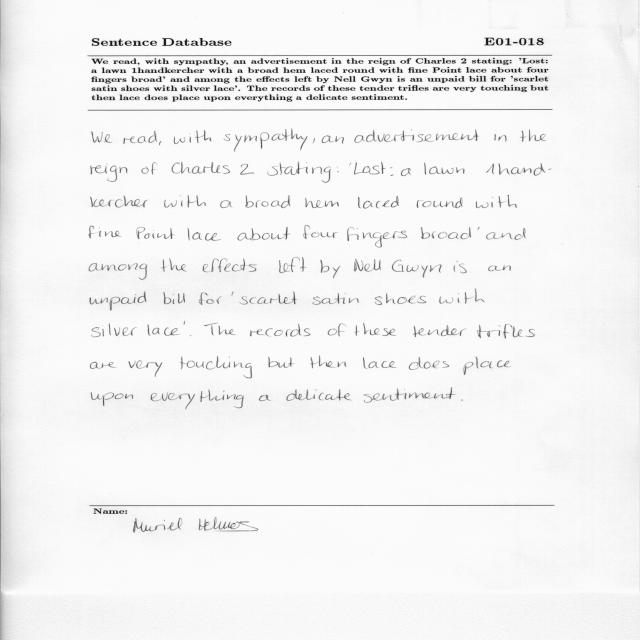word: (224, 129, 308, 152), (150, 389, 244, 409), (355, 129, 479, 143), (180, 356, 252, 378), (364, 388, 456, 403), (268, 162, 332, 183), (348, 227, 408, 247), (90, 292, 147, 311), (89, 263, 147, 280), (392, 260, 441, 278), (463, 357, 511, 375), (486, 163, 552, 176), (477, 324, 535, 338), (250, 324, 310, 337), (287, 389, 352, 401), (202, 259, 257, 273), (239, 292, 297, 305), (237, 227, 291, 240), (172, 162, 230, 174), (91, 163, 127, 182), (91, 196, 148, 208), (440, 289, 485, 304), (413, 325, 466, 337), (92, 323, 137, 337), (375, 293, 426, 305), (421, 227, 471, 239), (91, 392, 133, 406), (245, 195, 290, 208), (312, 293, 359, 305), (164, 195, 206, 208), (355, 323, 397, 336), (129, 361, 163, 377), (476, 195, 517, 208), (174, 130, 212, 144), (424, 162, 464, 175), (409, 357, 449, 370), (358, 196, 399, 208), (303, 225, 338, 239), (486, 228, 526, 240), (136, 227, 175, 239), (417, 198, 463, 208), (310, 356, 347, 368), (124, 131, 158, 144), (187, 228, 221, 241), (279, 258, 306, 274), (147, 324, 180, 336), (363, 357, 396, 369), (354, 162, 386, 174), (89, 226, 121, 238), (204, 323, 236, 335), (321, 260, 341, 279), (354, 259, 381, 272), (161, 258, 186, 272), (305, 198, 339, 208), (520, 129, 546, 142), (199, 292, 222, 305), (269, 357, 295, 368), (163, 292, 185, 304), (328, 324, 345, 337), (92, 132, 112, 143), (142, 162, 157, 175), (91, 362, 117, 369), (322, 136, 344, 144), (454, 261, 467, 273), (240, 164, 254, 175), (488, 265, 511, 271), (495, 134, 507, 142), (221, 201, 233, 209), (401, 168, 411, 176), (259, 395, 271, 401), (390, 167, 394, 176), (159, 141, 162, 146), (313, 138, 315, 144), (337, 167, 339, 172), (232, 291, 234, 296), (349, 163, 351, 166), (478, 227, 480, 230), (183, 322, 185, 325), (461, 400, 463, 401), (190, 335, 191, 336)
